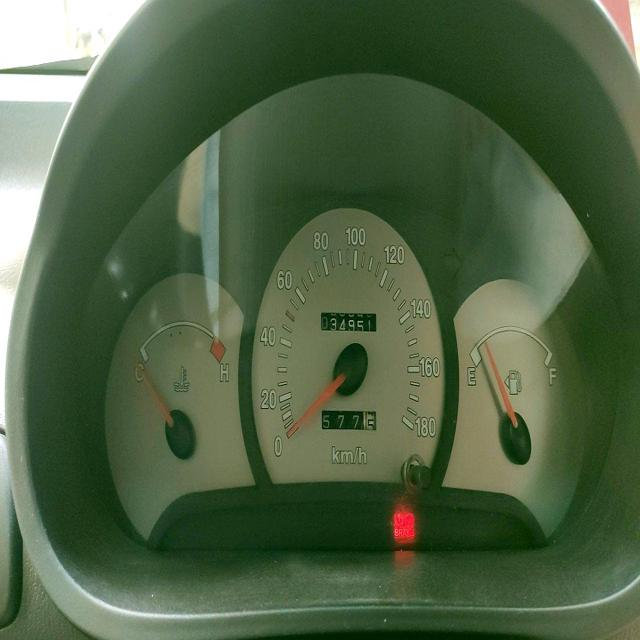odometer: (320, 312, 376, 331)
